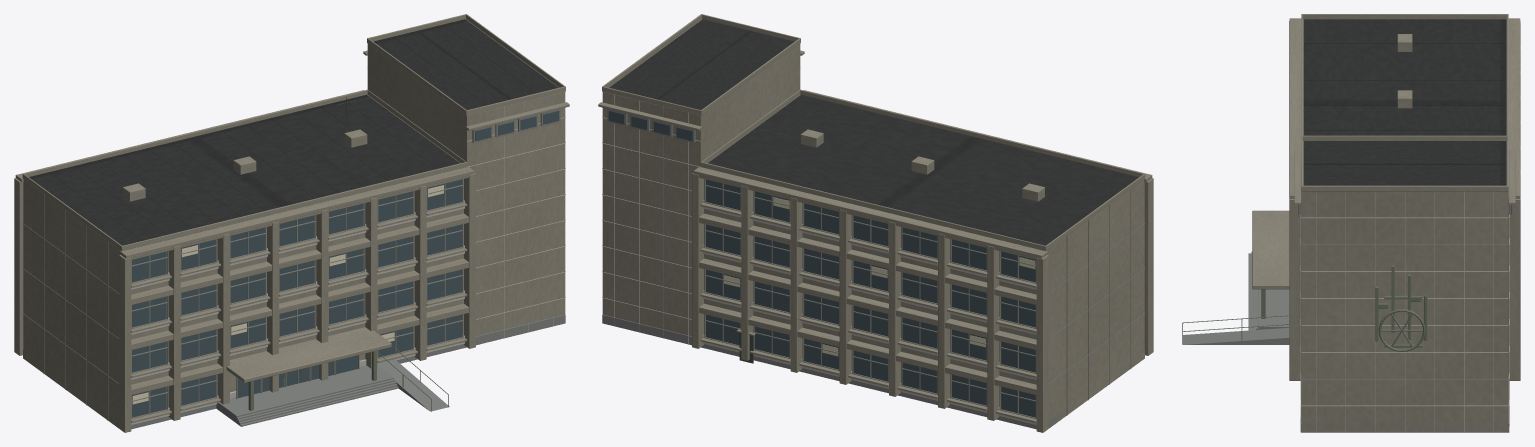
Rendered from administration_four_storey_review.glb.
The picture shows the model from 3 angles, left to right: view 1: azimuth 30°, elevation 25°; view 2: azimuth 150°, elevation 25°; view 3: azimuth 270°, elevation 25°; orthographic projection. The views are drawn at different scales.
Visible parts, largest first — view 1: administration_four_storey_review; view 2: administration_four_storey_review; view 3: administration_four_storey_review.
Boxes of the visible parts, x1,y1,x2,y2 form: administration_four_storey_review: (14, 14, 569, 432); administration_four_storey_review: (598, 14, 1153, 432); administration_four_storey_review: (1182, 14, 1520, 432).
Bounding box in the file's own units: 36.55 × 18.37 × 22.82.
11 materials, 2 textured.
